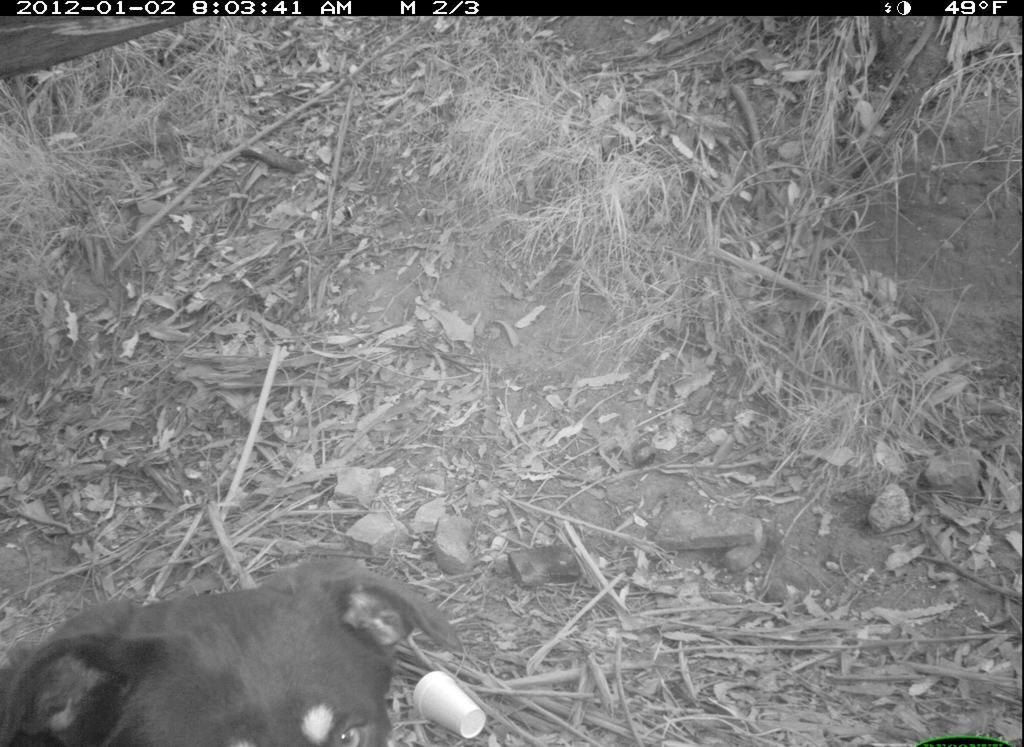dog: (2, 550, 461, 747)
